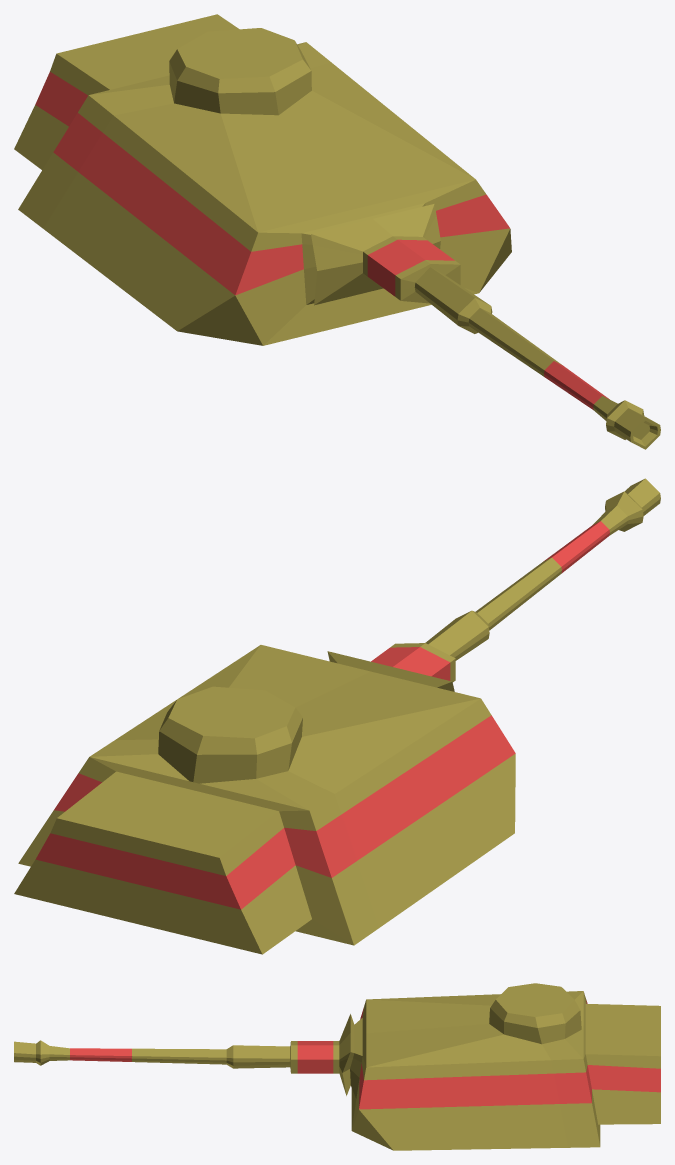
Rendered from Panzer4 Head.fbx.
3 views of the same model, one above another, from view 1: azimuth 30°, elevation 25°; view 2: azimuth 150°, elevation 25°; view 3: azimuth 270°, elevation 25° (orthographic). The views are drawn at different scales.
Visible parts, largest first — view 1: Head; view 2: Head; view 3: Head.
Part boxes in pixels (x1,y1,x2,y2): Head: (14, 14, 660, 449); Head: (14, 478, 660, 954); Head: (14, 983, 660, 1150).
Size of the model in its own units: 305 by 139 by 804.
